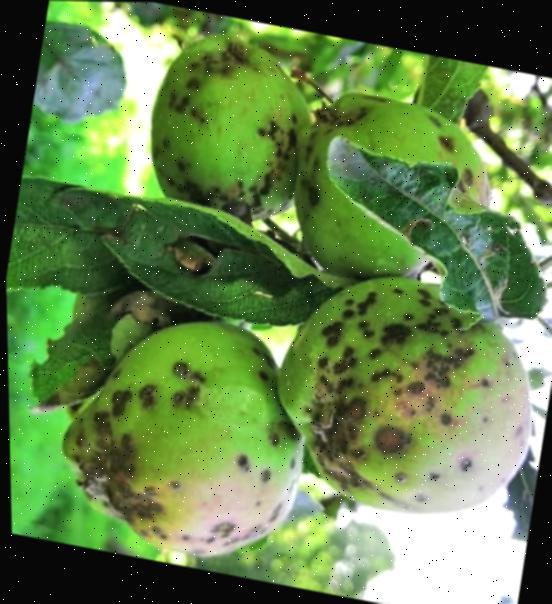SCAB: (70, 250, 552, 604), (126, 20, 538, 277)
